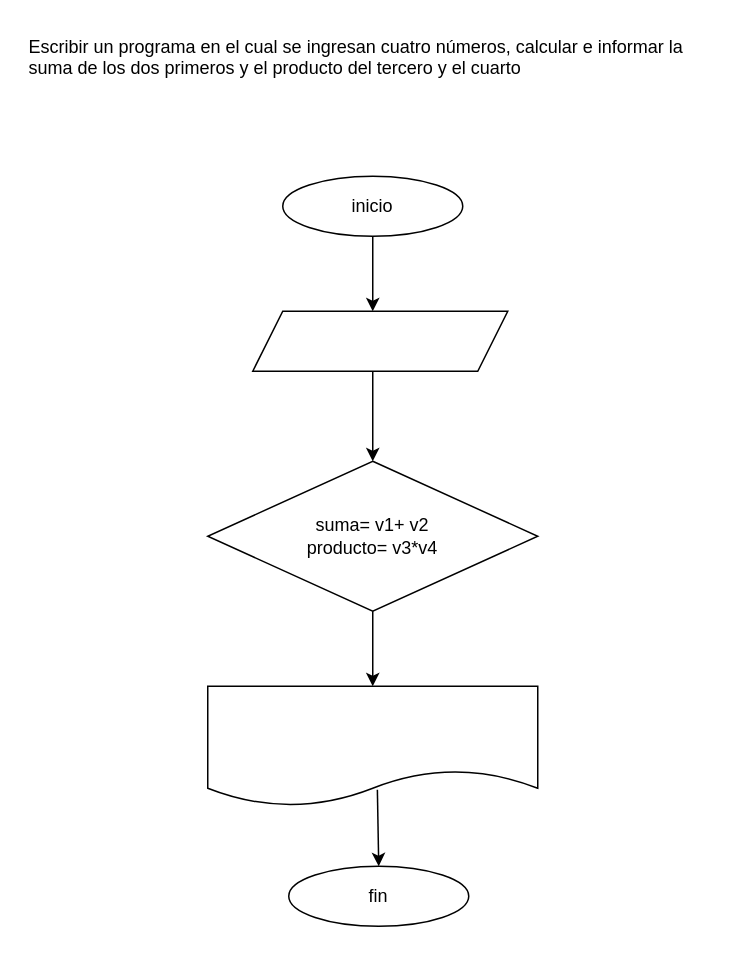
Some shapes in this 756 by 953 pixel diagram are drawn without their labels. Here are the shapes that lost their labels. From the top down, the centre of each, then its label:
point (379, 340): v1, v2, v3, v4
point (372, 745): suma producto
